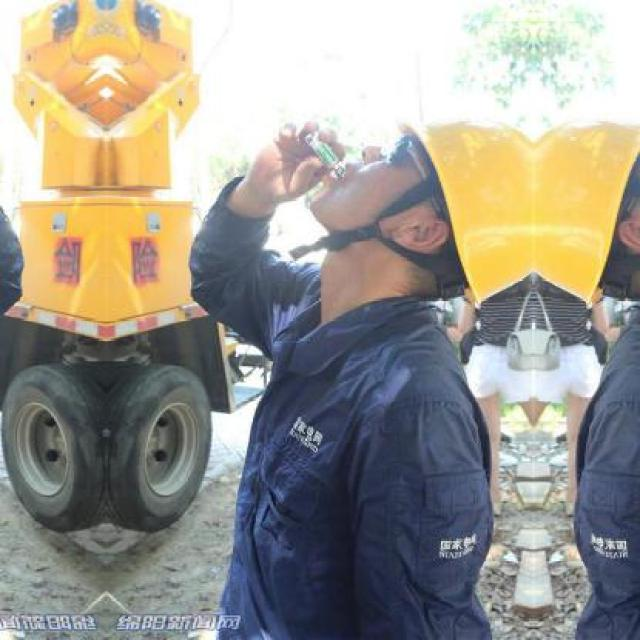helmet: (303, 117, 531, 320), (534, 117, 637, 321)
